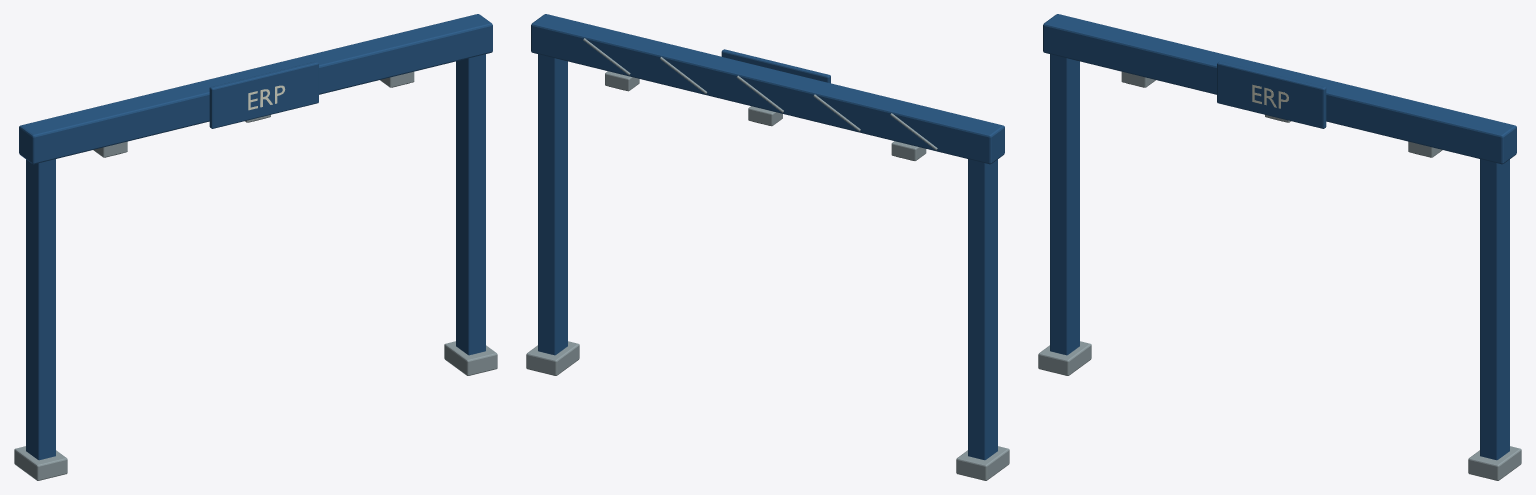
The picture shows the model from 3 angles, left to right: view 1: azimuth 30°, elevation 25°; view 2: azimuth 150°, elevation 25°; view 3: azimuth 330°, elevation 25°; orthographic projection.
Parts seen in each view (by area): view 1: BEAM_Main, COLUMN_Gantry.001, COLUMN_Gantry, SIGN_Concept, BASE_Footing.001, BASE_Footing; view 2: BEAM_Main, COLUMN_Gantry.001, COLUMN_Gantry, BASE_Footing.001, BASE_Footing, SIGN_Concept; view 3: BEAM_Main, COLUMN_Gantry, COLUMN_Gantry.001, SIGN_Concept, BASE_Footing, BASE_Footing.001.
Part boxes in pixels (x1=…): BEAM_Main: x1=19, y1=14, x2=492, y2=164; COLUMN_Gantry.001: x1=26, y1=159, x2=55, y2=460; COLUMN_Gantry: x1=456, y1=54, x2=485, y2=355; SIGN_Concept: x1=209, y1=61, x2=318, y2=128; BASE_Footing.001: x1=14, y1=446, x2=67, y2=480; BASE_Footing: x1=444, y1=341, x2=497, y2=375; BEAM_Main: x1=531, y1=14, x2=1004, y2=164; COLUMN_Gantry.001: x1=968, y1=159, x2=997, y2=460; COLUMN_Gantry: x1=538, y1=54, x2=567, y2=355; BASE_Footing.001: x1=956, y1=446, x2=1009, y2=480; BASE_Footing: x1=526, y1=341, x2=579, y2=375; SIGN_Concept: x1=721, y1=49, x2=830, y2=83; BEAM_Main: x1=1043, y1=14, x2=1516, y2=164; COLUMN_Gantry: x1=1480, y1=159, x2=1509, y2=460; COLUMN_Gantry.001: x1=1050, y1=54, x2=1079, y2=355; SIGN_Concept: x1=1217, y1=61, x2=1326, y2=128; BASE_Footing: x1=1468, y1=446, x2=1521, y2=480; BASE_Footing.001: x1=1038, y1=341, x2=1091, y2=375.
Bounding box in the file's own units: 9 × 6.5 × 0.8.
